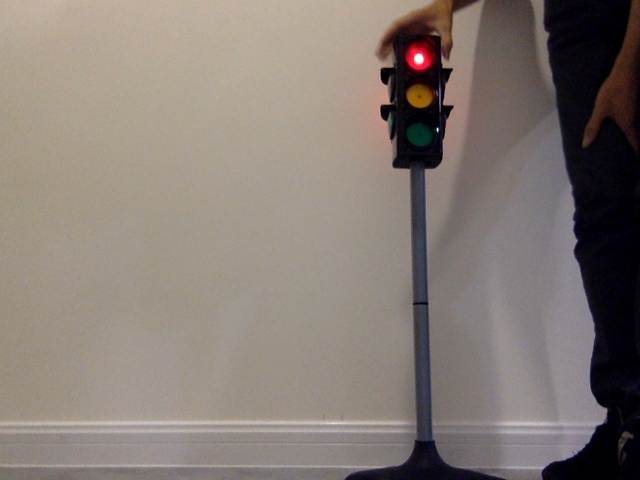red: (398, 38, 438, 150)
